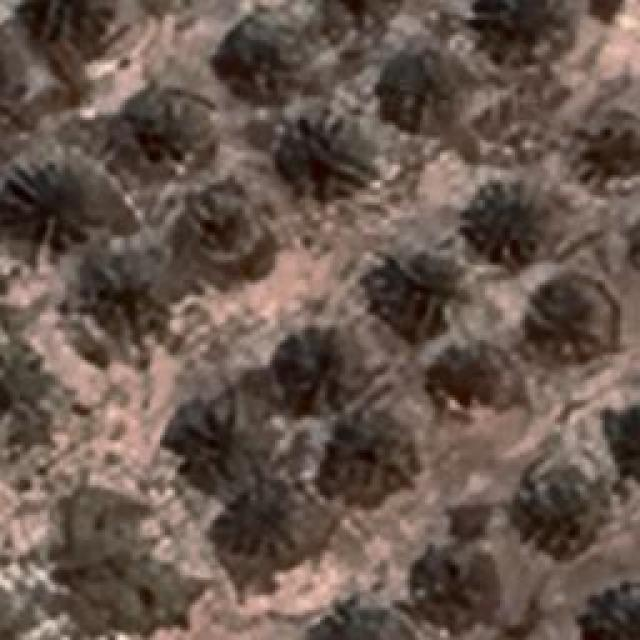PalmTree: (60, 57, 610, 611), (67, 255, 168, 340), (7, 167, 95, 255), (409, 536, 496, 624), (385, 41, 470, 129), (171, 399, 264, 479), (224, 490, 316, 568), (286, 111, 372, 191), (222, 12, 316, 82), (462, 178, 542, 260), (270, 324, 352, 404), (474, 0, 577, 62), (372, 254, 456, 328), (135, 94, 223, 164), (322, 421, 410, 491), (432, 343, 516, 410), (530, 282, 610, 350), (24, 0, 124, 52), (305, 595, 403, 640), (582, 114, 640, 184), (0, 338, 41, 436), (320, 0, 403, 30), (0, 26, 24, 128), (611, 402, 640, 484), (318, 0, 407, 20), (0, 26, 17, 130), (0, 30, 12, 130)
